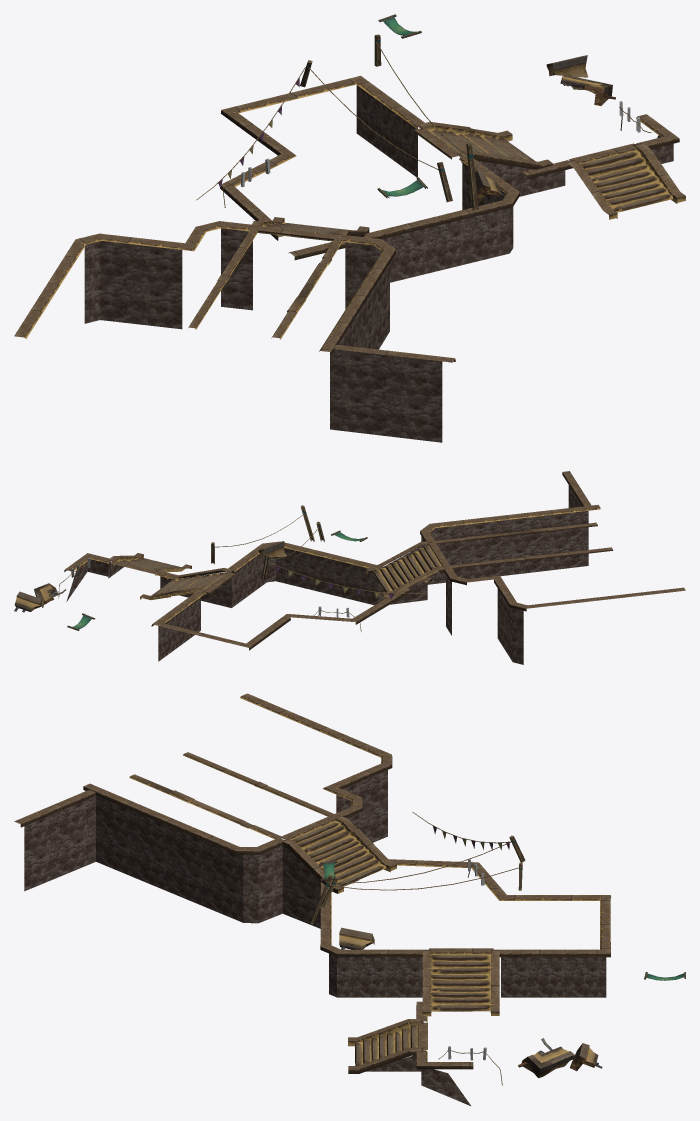
File: terrain_section06_guanka05_02.FBX
3 views of the same model, one above another, from view 1: azimuth 30°, elevation 25°; view 2: azimuth 150°, elevation 25°; view 3: azimuth 270°, elevation 25° (orthographic). The views are drawn at different scales.
Visible parts, largest first — view 1: terrain_section06_guanka05_02; view 2: terrain_section06_guanka05_02; view 3: terrain_section06_guanka05_02.
Part boxes in pixels (x1=…): terrain_section06_guanka05_02: x1=14, y1=14, x2=685, y2=442; terrain_section06_guanka05_02: x1=14, y1=471, x2=685, y2=664; terrain_section06_guanka05_02: x1=14, y1=693, x2=685, y2=1105.
Size of the model in its own units: 96.23 by 19.82 by 84.61.
